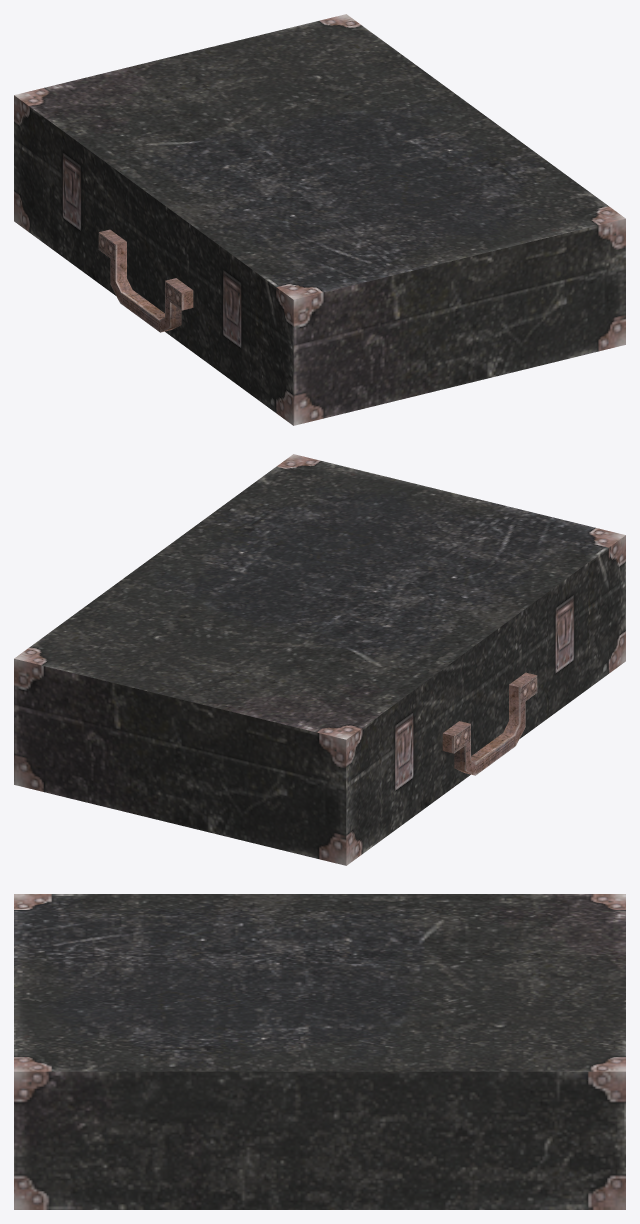
The model's file is case.FBX.
3 views of the same model, one above another, from view 1: azimuth 30°, elevation 25°; view 2: azimuth 150°, elevation 25°; view 3: azimuth 270°, elevation 25° (orthographic). The views are drawn at different scales.
Parts seen in each view (by area): view 1: case; view 2: case; view 3: case.
Boxes of the visible parts, <box> form: case: <box>14,14,625,425</box>; case: <box>14,454,625,865</box>; case: <box>14,894,625,1209</box>.
Size of what is drawn, in the model's own units: 42.79 by 14.99 by 60.23.
